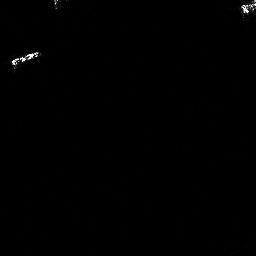ship: (10, 50, 42, 69)
